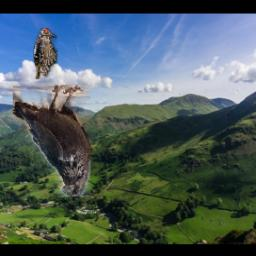Crow: (14, 85, 92, 197)
Woodpecker: (34, 29, 59, 80)
